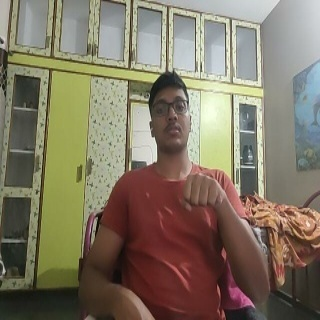Face: (148, 73, 193, 157)
Yes: (181, 170, 233, 218)
